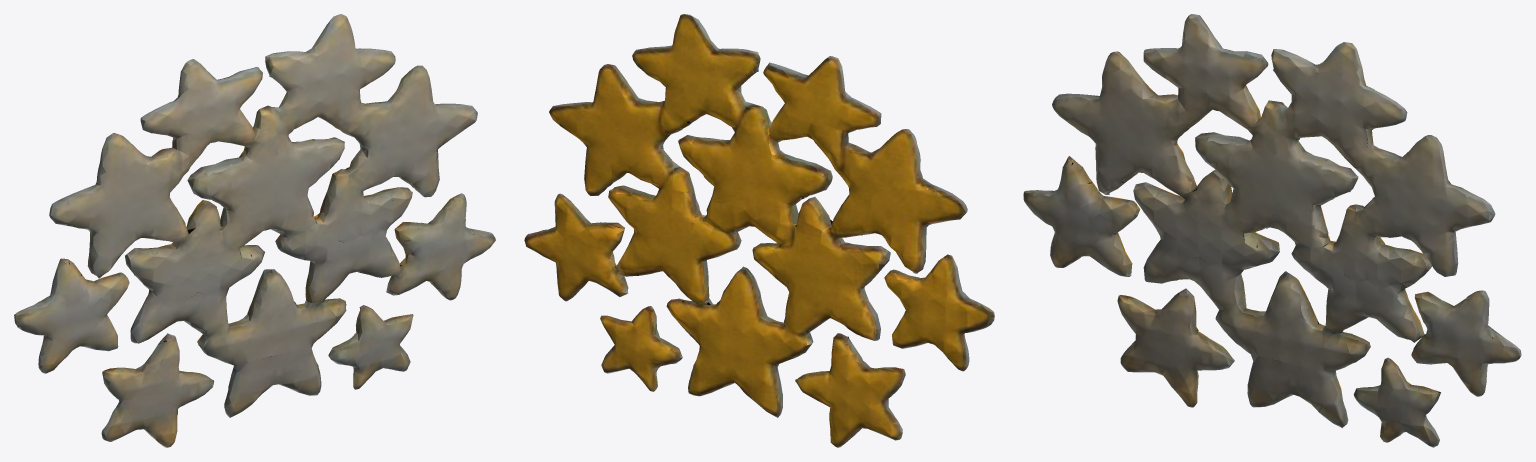
The model's file is stars.glb.
3 renders of one model, left to right at view 1: azimuth 30°, elevation 25°; view 2: azimuth 150°, elevation 25°; view 3: azimuth 330°, elevation 25°, orthographic. The views are drawn at different scales.
Visible parts, largest first — view 1: world; view 2: world; view 3: world.
Part boxes in pixels (left/top/right/bottom): world: left=14, top=14, right=495, bottom=447; world: left=524, top=14, right=994, bottom=447; world: left=1023, top=14, right=1521, bottom=447.
Bounding box in the file's own units: 0.969 × 0.7676 × 0.0627.
1 material, 1 textured.
